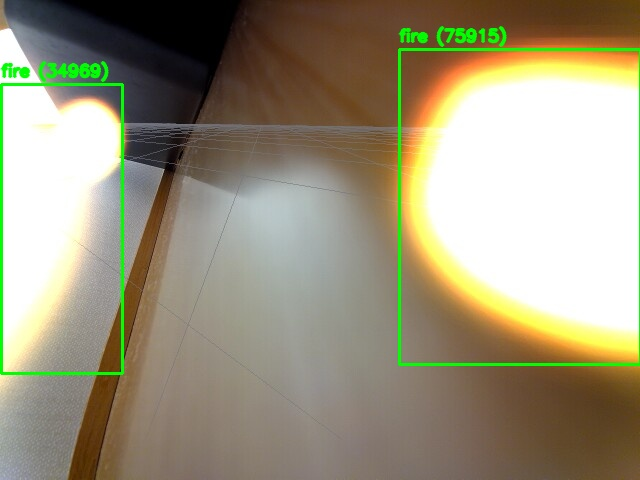fire: (399, 49, 640, 364), (1, 84, 122, 373)
